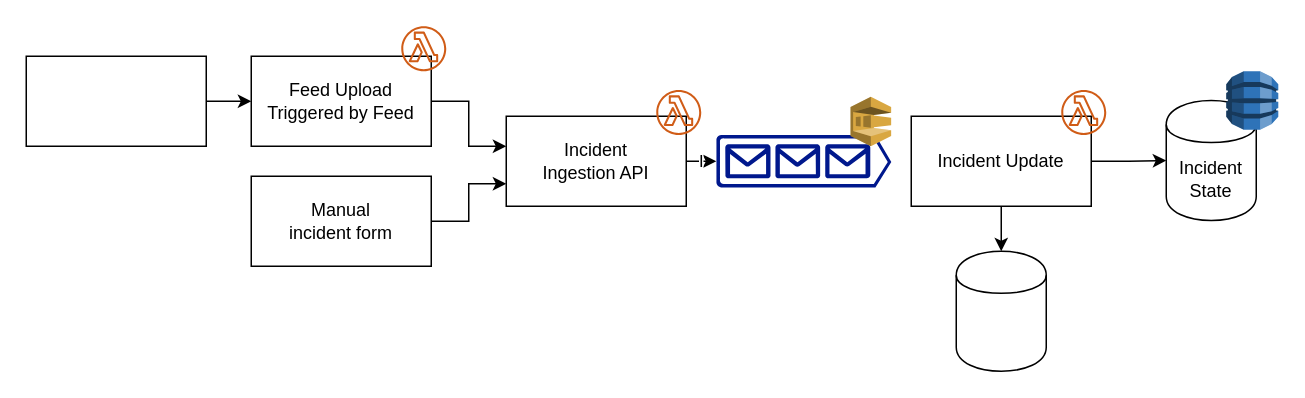
The diagram is 1305 pixels wide and 398 high, and some of its shapes have lost their labels. The centre of each missing label's shape, as x and y in pixels:
"External Feed (e.g. Anvil)" belongs at point 115,100.
"Incident Update Archive" belongs at point 1000,310.
